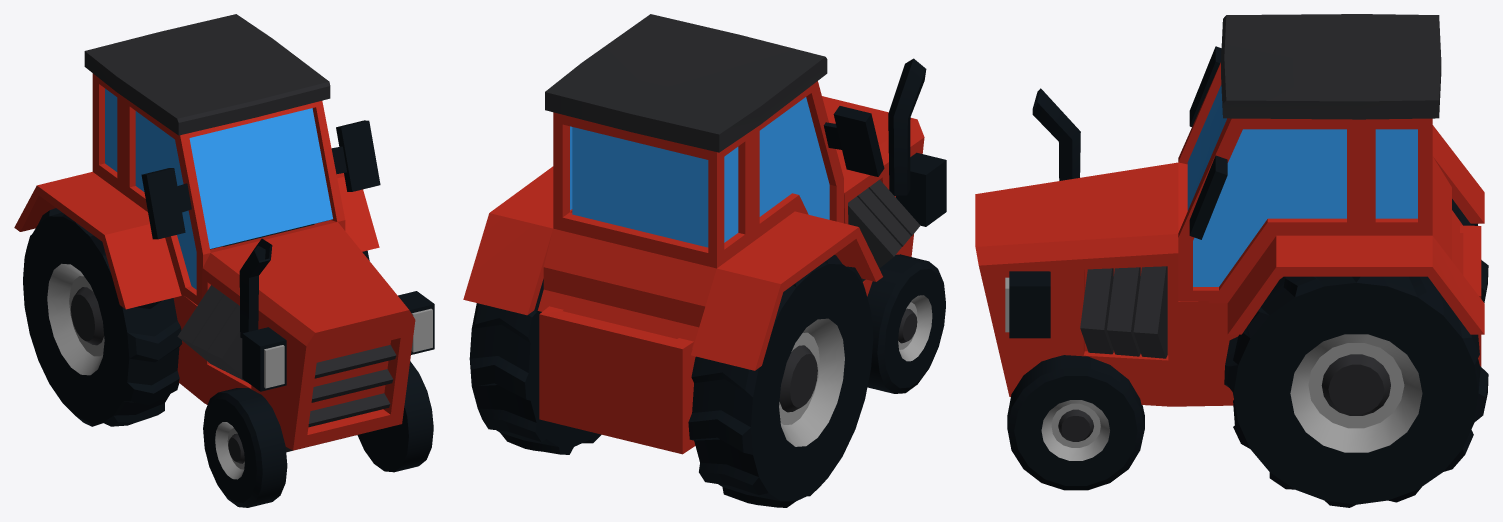
The model's file is Tractor.fbx.
3 renders of one model, left to right at view 1: azimuth 30°, elevation 25°; view 2: azimuth 150°, elevation 25°; view 3: azimuth 270°, elevation 25°, orthographic. The views are drawn at different scales.
Parts seen in each view (by area): view 1: Tractor; view 2: Tractor; view 3: Tractor.
Part boxes in pixels (<box>): Tractor: <box>14,14,434,507</box>; Tractor: <box>463,14,946,507</box>; Tractor: <box>975,14,1488,507</box>.
Bounding box in the file's own units: 66.66 × 84.21 × 102.
